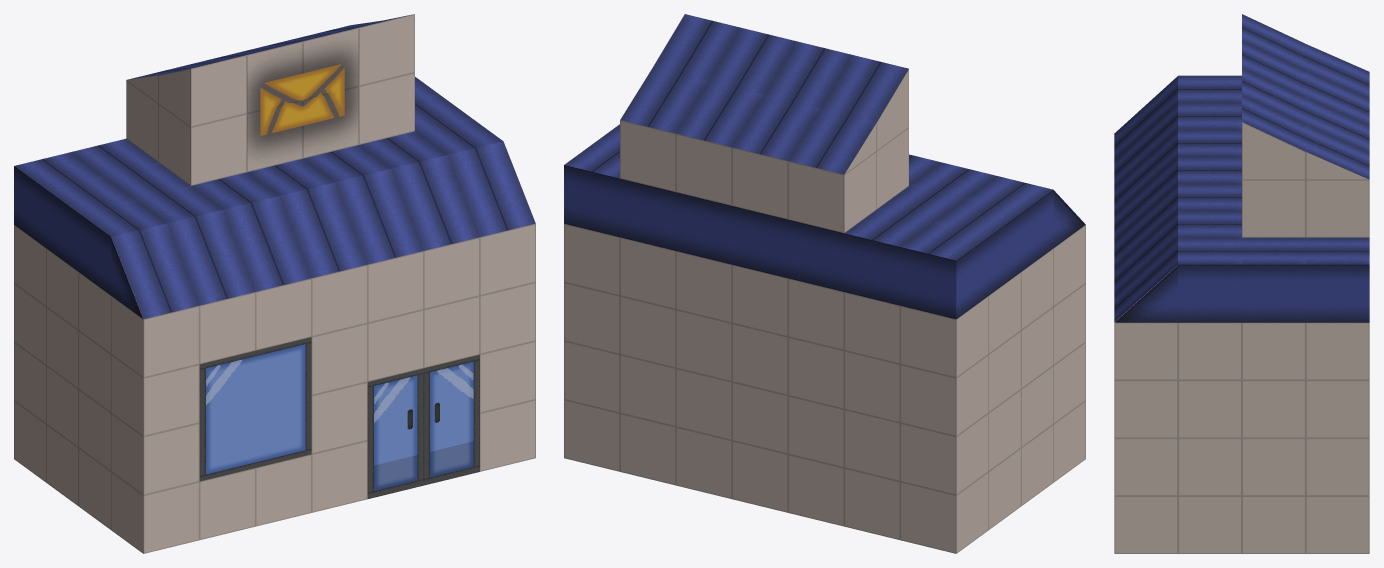
File: PostOfficeExterior.dae
3 renders of one model, left to right at view 1: azimuth 30°, elevation 25°; view 2: azimuth 150°, elevation 25°; view 3: azimuth 270°, elevation 25°, orthographic.
Parts seen in each view (by area): view 1: Cube; view 2: Cube; view 3: Cube.
Part boxes in pixels (bbox=[...]): Cube: bbox=[14, 14, 535, 553]; Cube: bbox=[564, 14, 1085, 553]; Cube: bbox=[1114, 14, 1369, 553].
Size of the model in its own units: 13.56 by 7.75 by 13.56.
2 materials, 2 textured.
